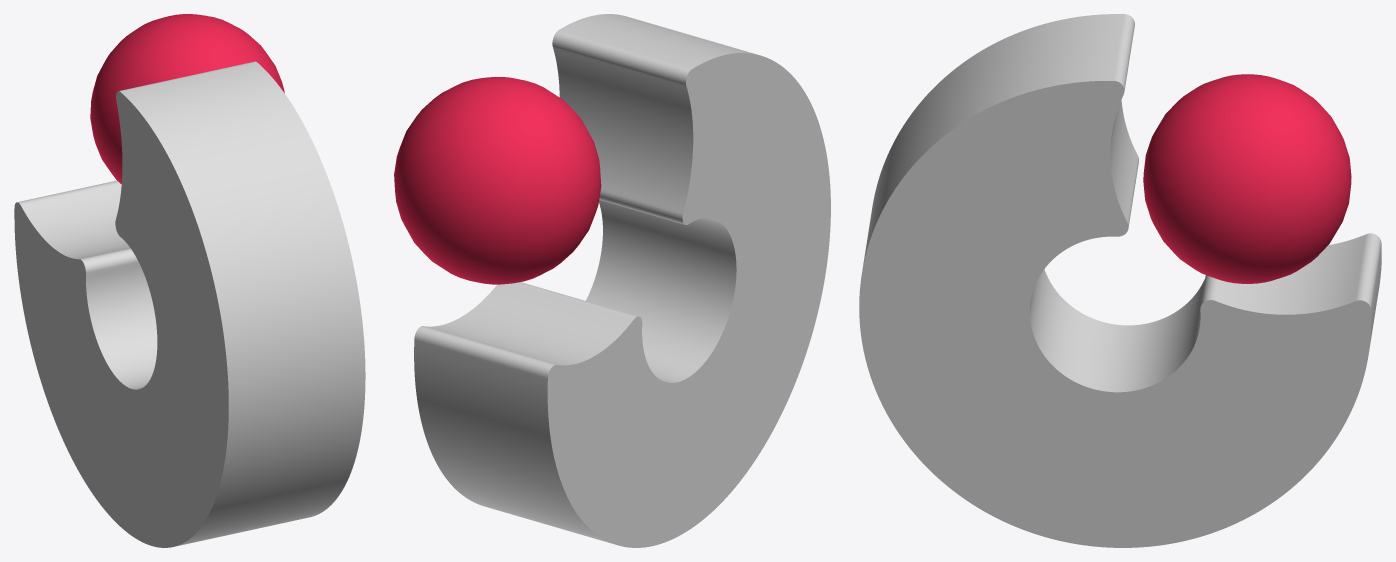
The model's file is C2Icon.glb.
3 renders of one model, left to right at view 1: azimuth 30°, elevation 25°; view 2: azimuth 150°, elevation 25°; view 3: azimuth 270°, elevation 25°, orthographic. The views are drawn at different scales.
Visible parts, largest first — view 1: Asset 2.004, Sphere.004; view 2: Asset 2.004, Sphere.004; view 3: Asset 2.004, Sphere.004.
Part boxes in pixels (bbox=[...]): Asset 2.004: bbox=[14, 61, 365, 547]; Sphere.004: bbox=[90, 14, 284, 183]; Asset 2.004: bbox=[414, 14, 830, 547]; Sphere.004: bbox=[394, 77, 601, 284]; Asset 2.004: bbox=[859, 14, 1381, 547]; Sphere.004: bbox=[1143, 74, 1351, 283].
Size of the model in its own units: 2.19 by 4.12 by 4.18.
